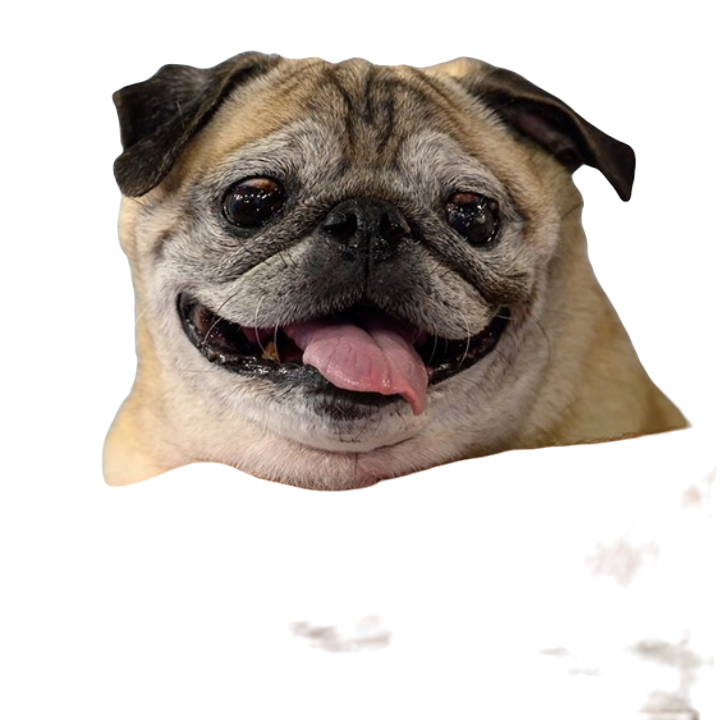Dog: (95, 54, 696, 493)
